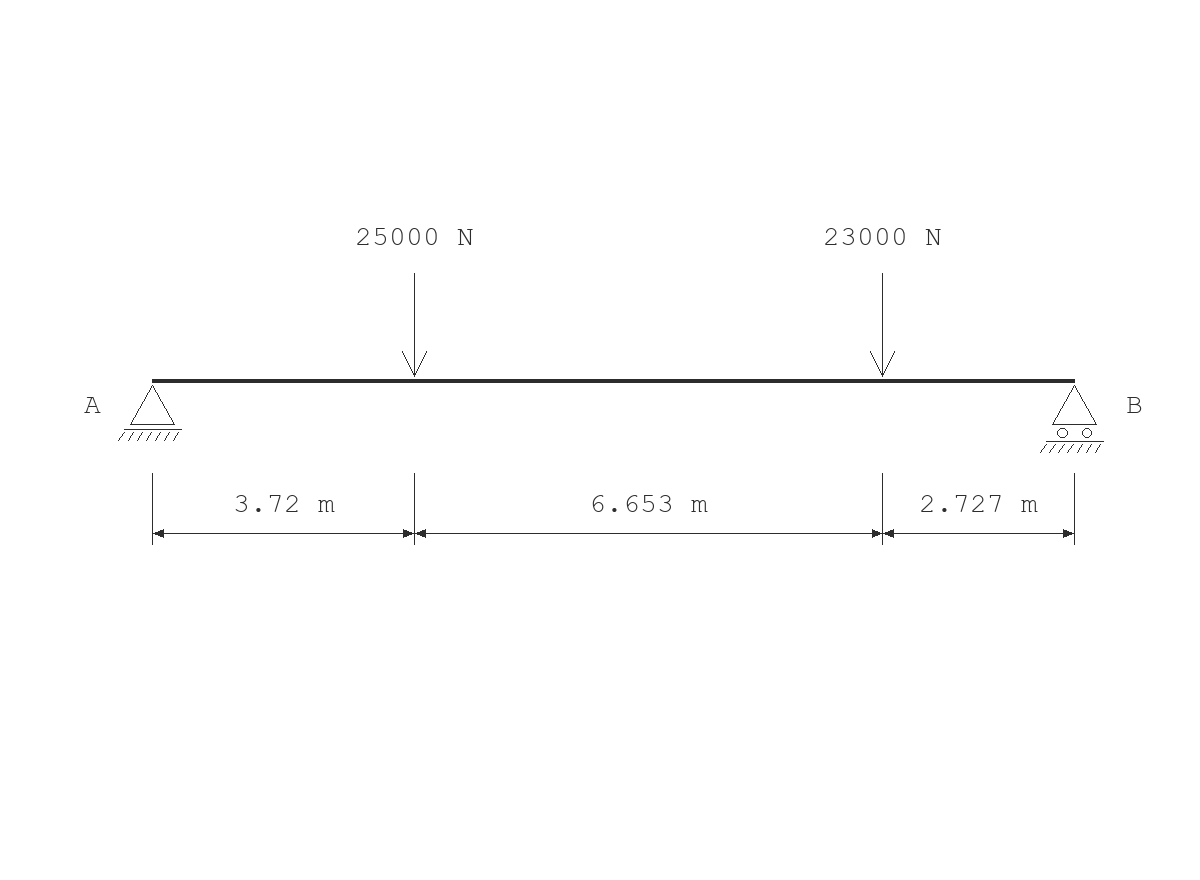pin_support: (118, 385, 182, 441)
point_load: (402, 273, 427, 377), (870, 273, 895, 377)
roller_support: (1040, 385, 1104, 453)
